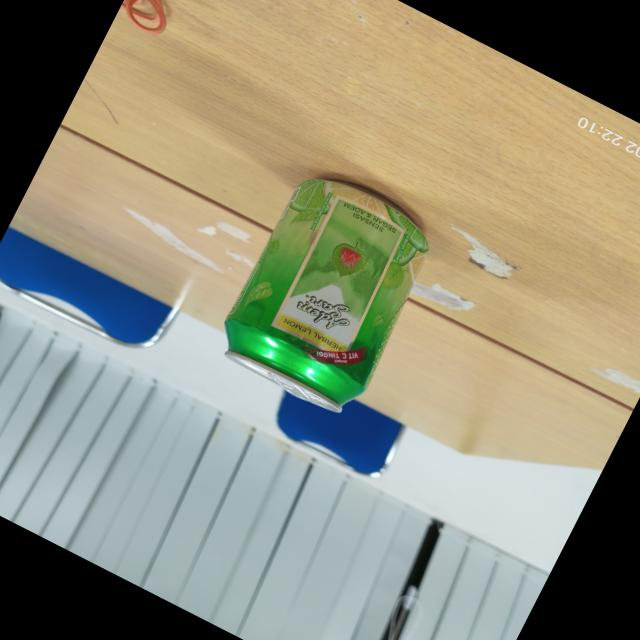ademsarikaleng: (208, 158, 450, 425)
